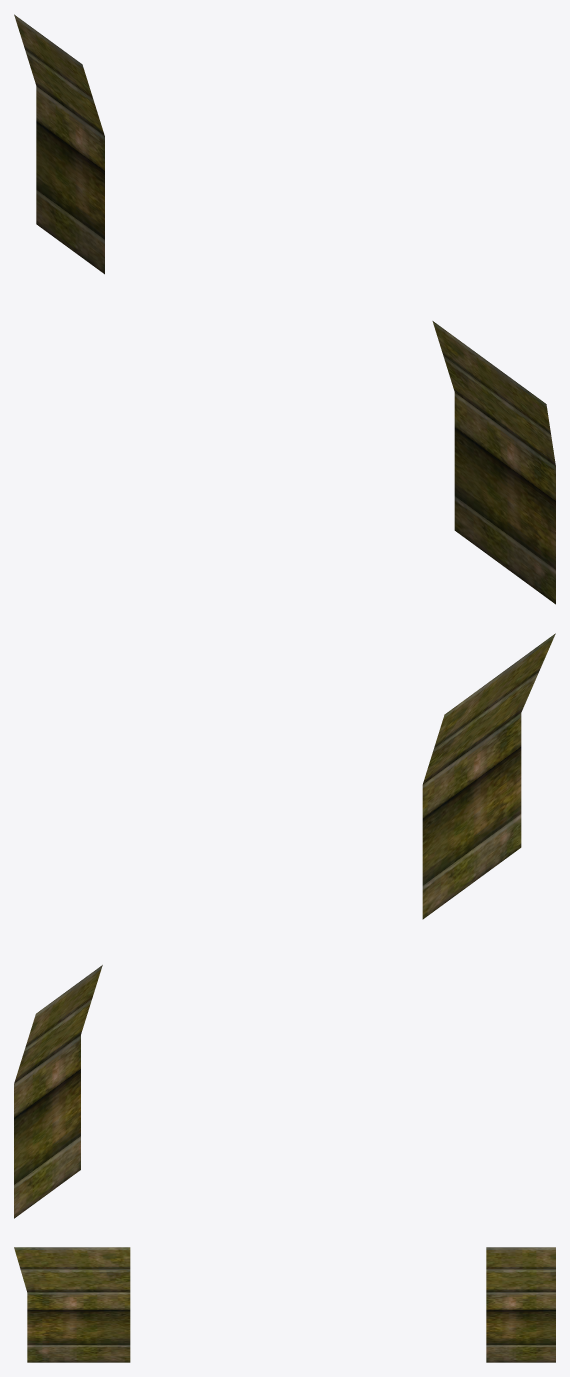
The model's file is OVERHILL_A_01_OBJECT167.fbx.
3 renders of one model, top to bottom at view 1: azimuth 30°, elevation 25°; view 2: azimuth 150°, elevation 25°; view 3: azimuth 270°, elevation 25°, orthographic. The views are drawn at different scales.
Parts seen in each view (by area): view 1: OVERHILL_A_01_OBJECT167; view 2: OVERHILL_A_01_OBJECT167; view 3: OVERHILL_A_01_OBJECT167.
Part boxes in pixels (<box>): OVERHILL_A_01_OBJECT167: <box>14,14,555,604</box>; OVERHILL_A_01_OBJECT167: <box>14,633,555,1218</box>; OVERHILL_A_01_OBJECT167: <box>14,1247,555,1362</box>.
Size of the model in its own units: 1348 by 12361 by 55344.
Materials: 2 (2 with a texture image).
